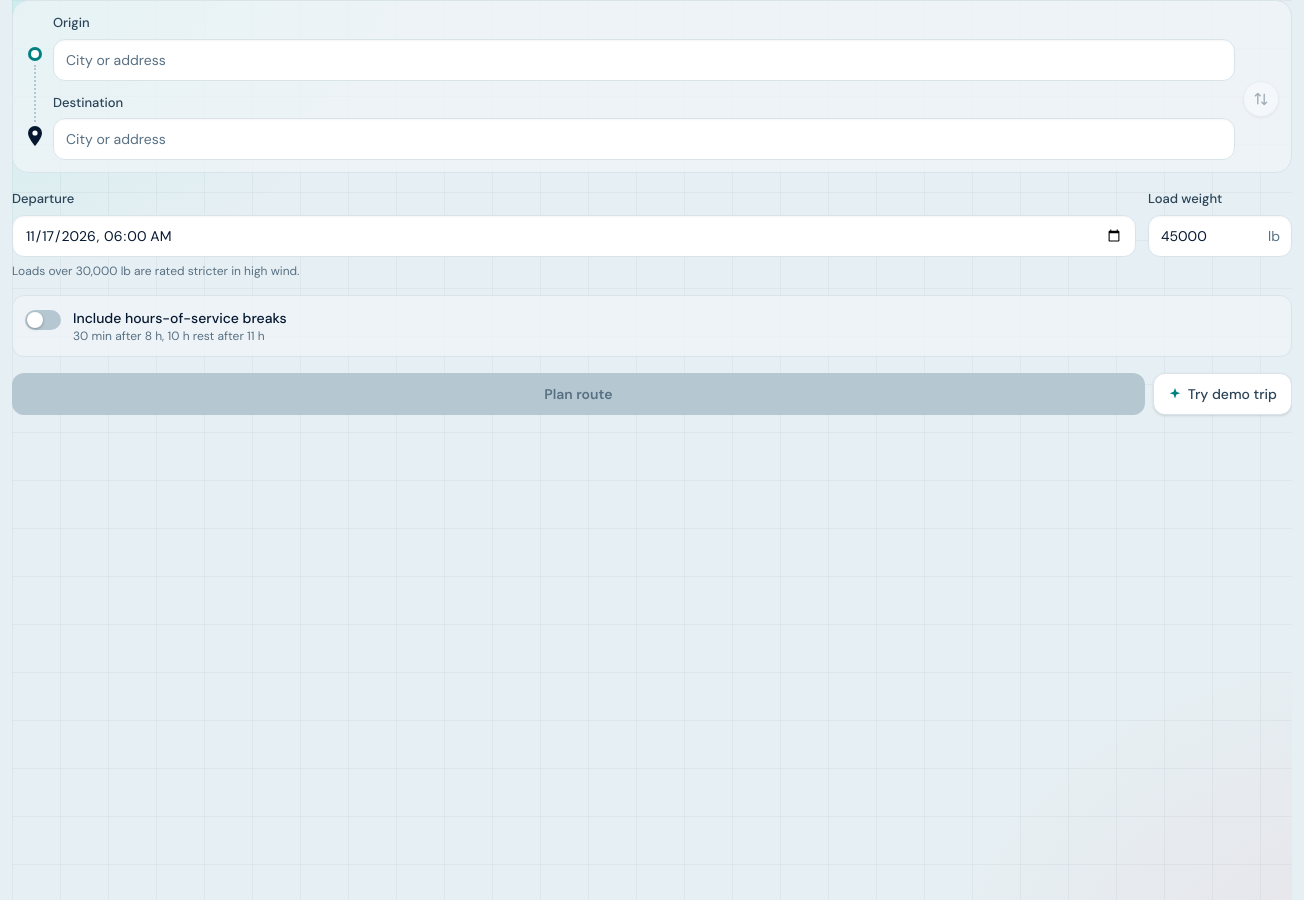
Test case: submit stays disabled until both places are picked from suggestions
This screenshot has width=1304, height=900.
Expected: the button "Plan route" is disabled, [12, 372, 1145, 414]
Type "Denv" into the dropdown labelled "Origin" at (644, 60), box [53, 38, 1235, 80]
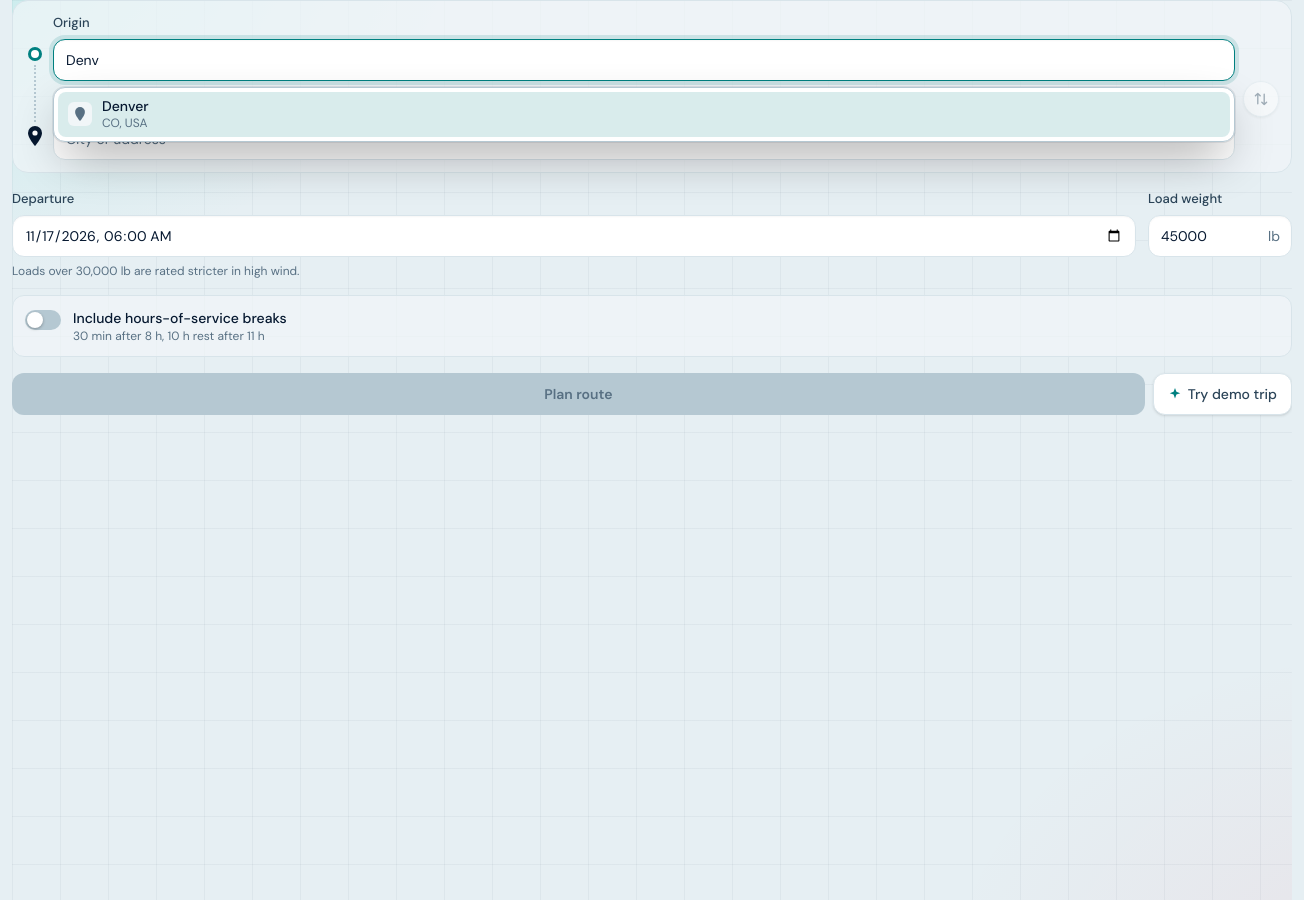
Click the option with aria-label "Denver, CO, USA" at (125, 106), box [58, 92, 1230, 137]
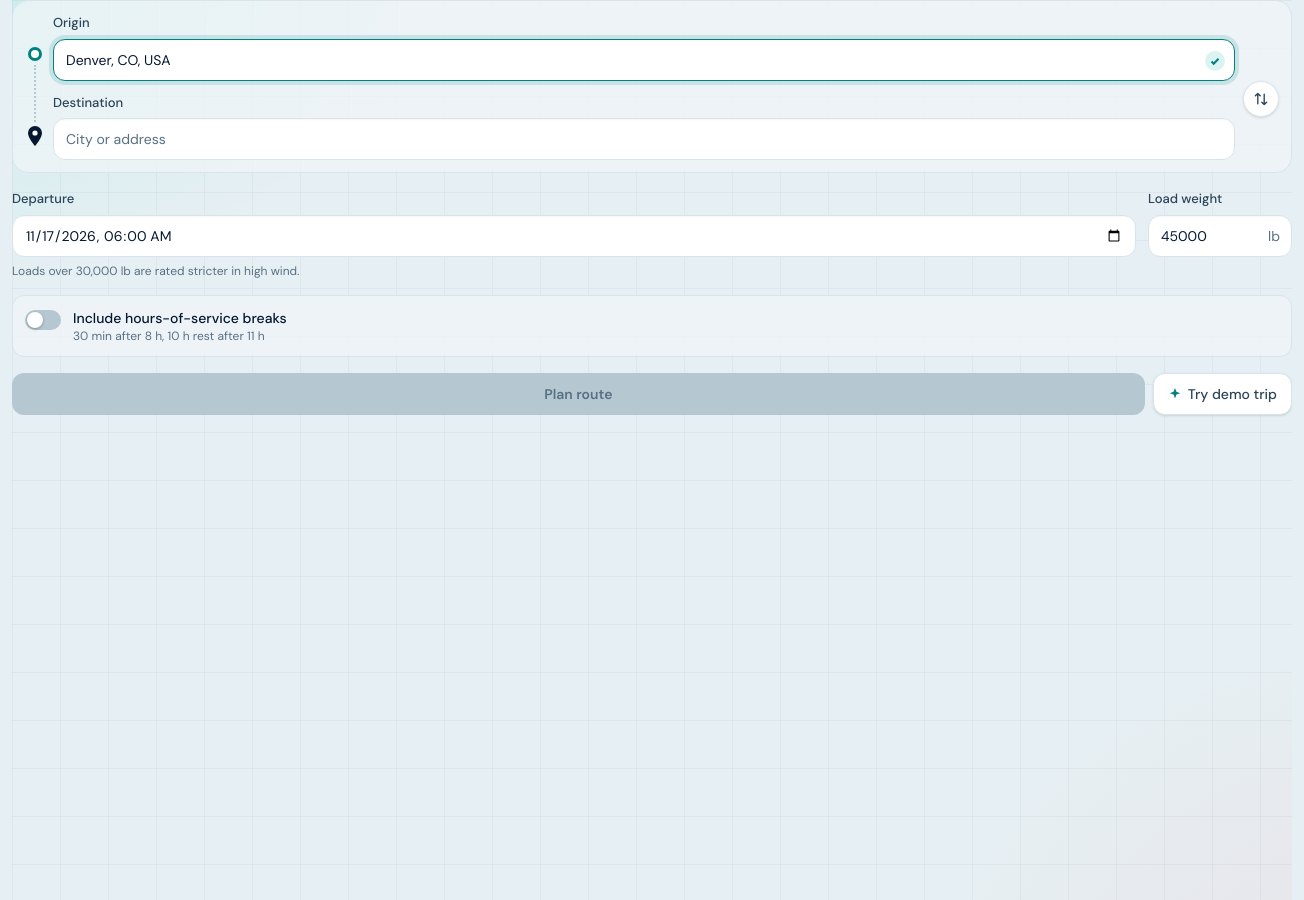
Expected: the button "Plan route" is disabled, [12, 372, 1145, 414]
Type "Salt" into the dropdown labelled "Destination" at (644, 139), box [53, 118, 1235, 160]
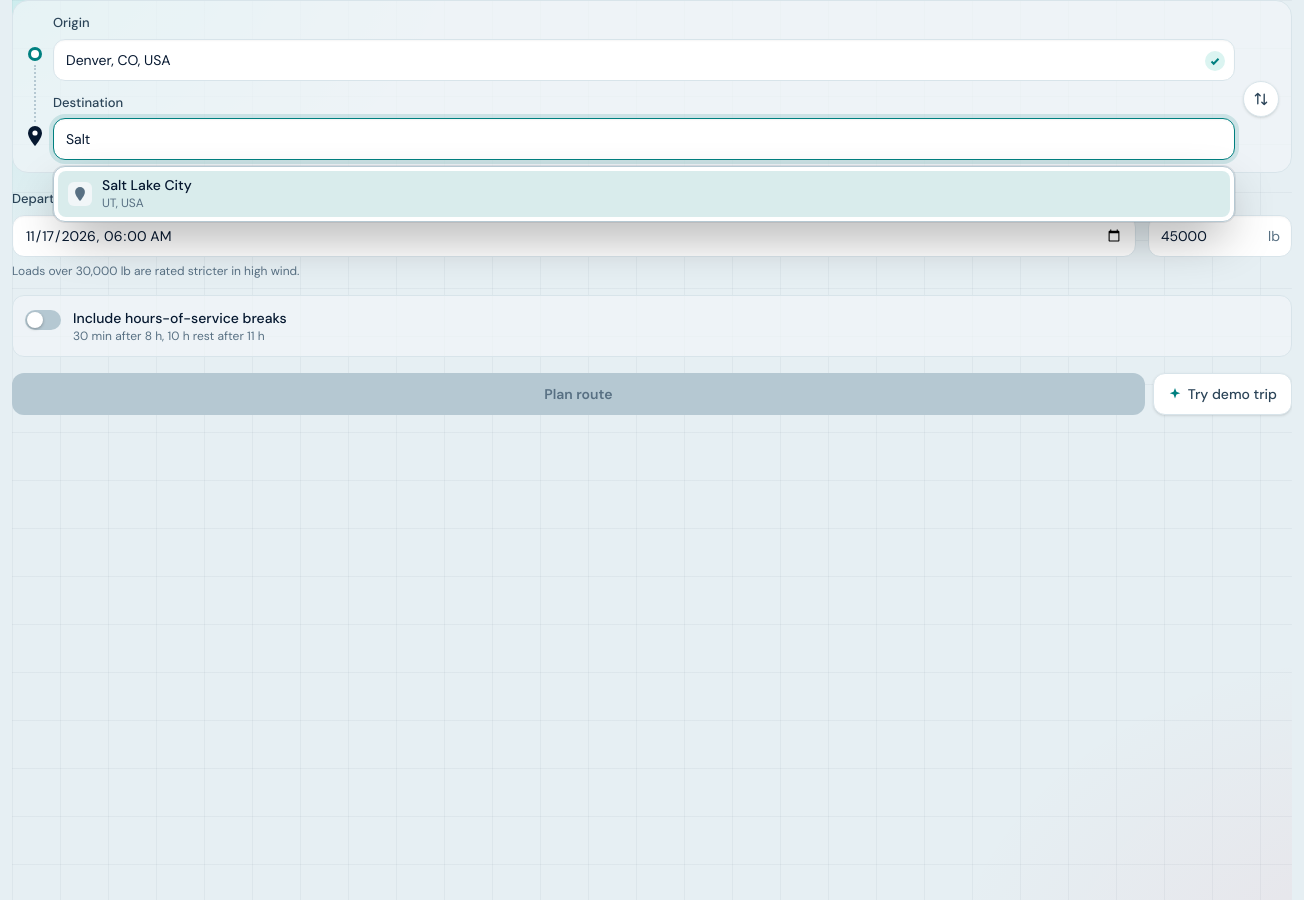
Click the option with aria-label "Salt Lake City, UT, USA" at (147, 185), box [58, 171, 1230, 216]
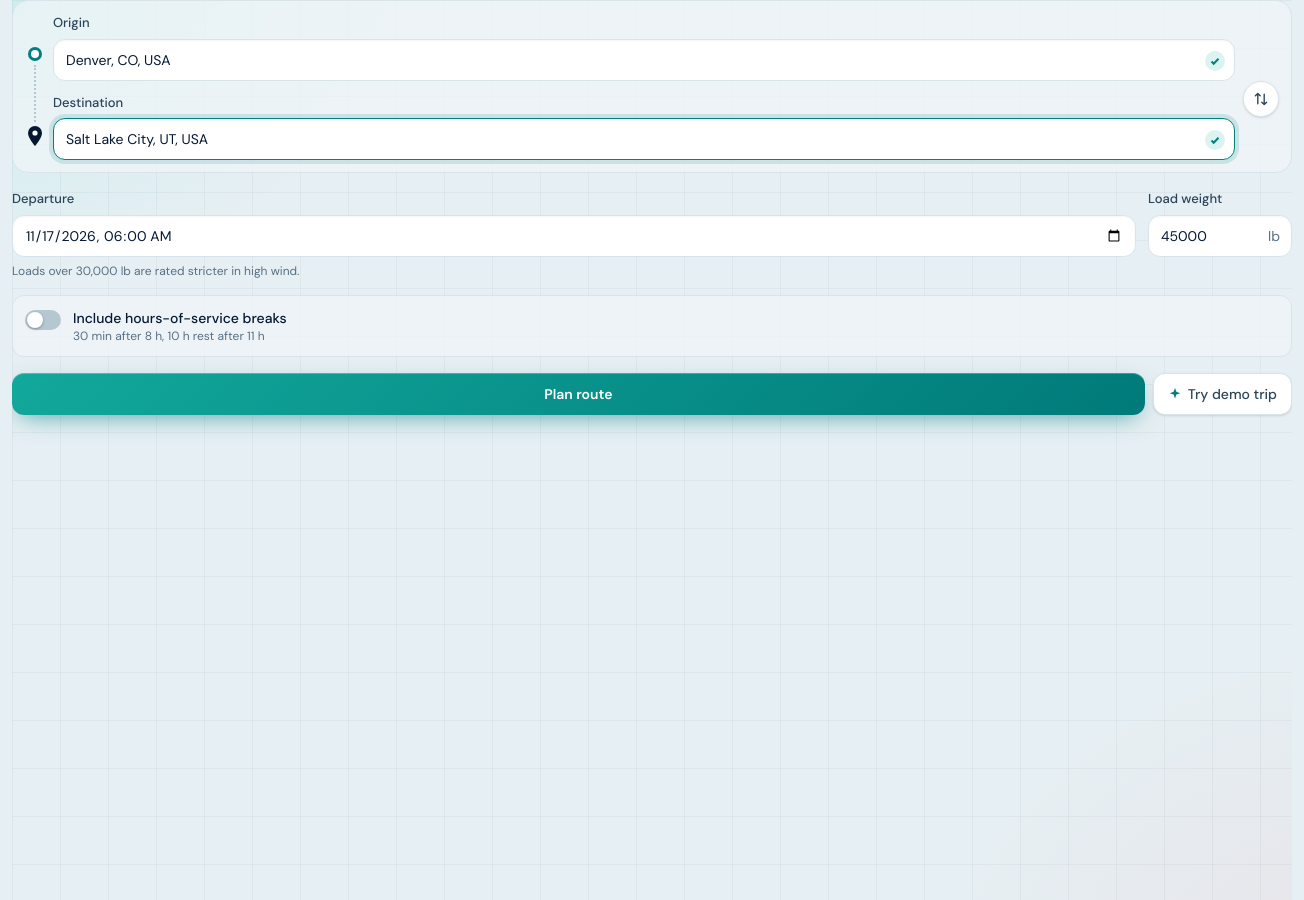
Expected: the button "Plan route" is enabled, [12, 372, 1145, 414]
Type "x" into the dropdown labelled "Destination" at (644, 139), box [53, 118, 1235, 160]
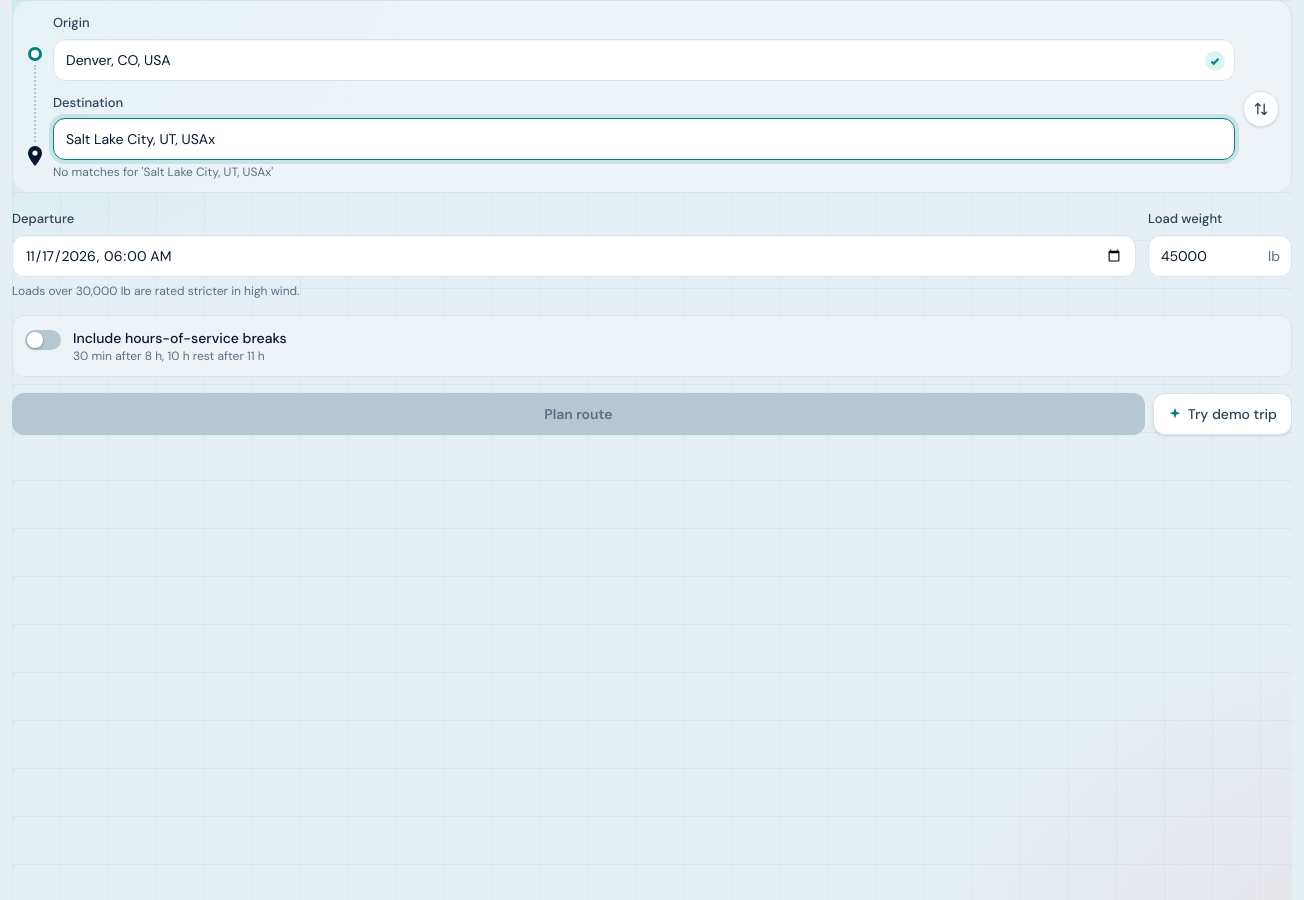
Expected: the button "Plan route" is disabled, [12, 392, 1145, 434]
